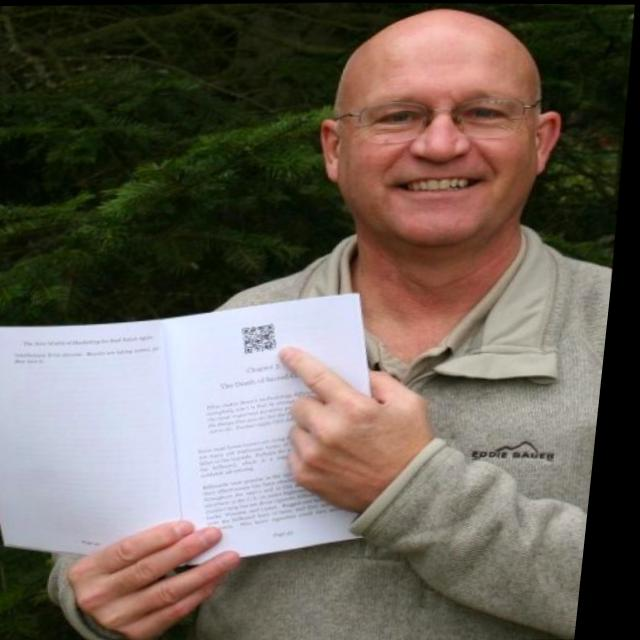qrcode: (245, 322, 287, 354)
